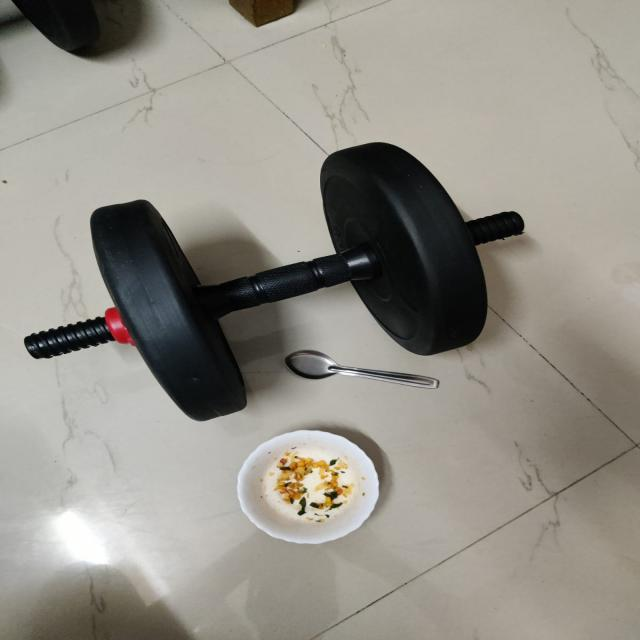metal: (9, 156, 554, 409), (224, 435, 398, 552)
